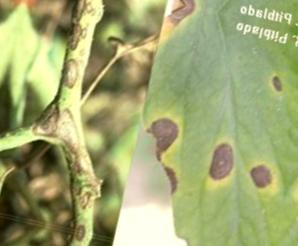Tomato Early blight leaf: (116, 6, 298, 246)
